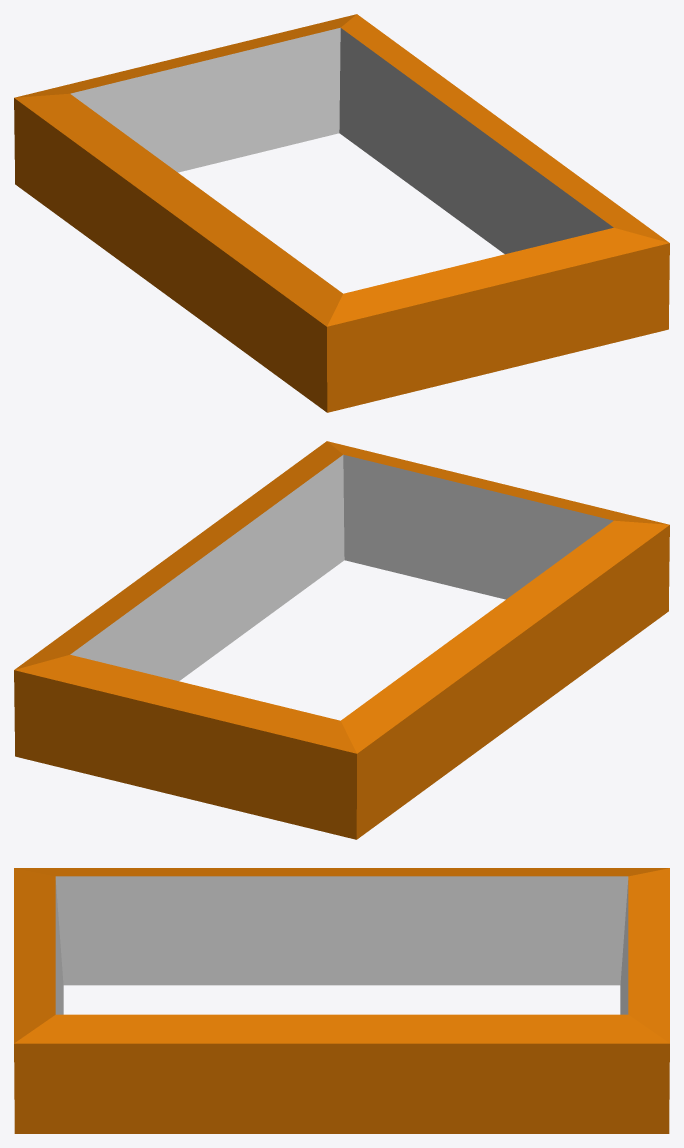
Rendered from Kadran.fbx.
3 views of the same model, one above another, from view 1: azimuth 30°, elevation 25°; view 2: azimuth 150°, elevation 25°; view 3: azimuth 270°, elevation 25° (orthographic). The views are drawn at different scales.
Parts seen in each view (by area): view 1: Cube; view 2: Cube; view 3: Cube.
Part boxes in pixels (x1,y1,x2,y2): Cube: (14,14,669,412); Cube: (14,441,669,839); Cube: (14,868,669,1133).
Size of the model in its own units: 5263 by 1489 by 8314.
